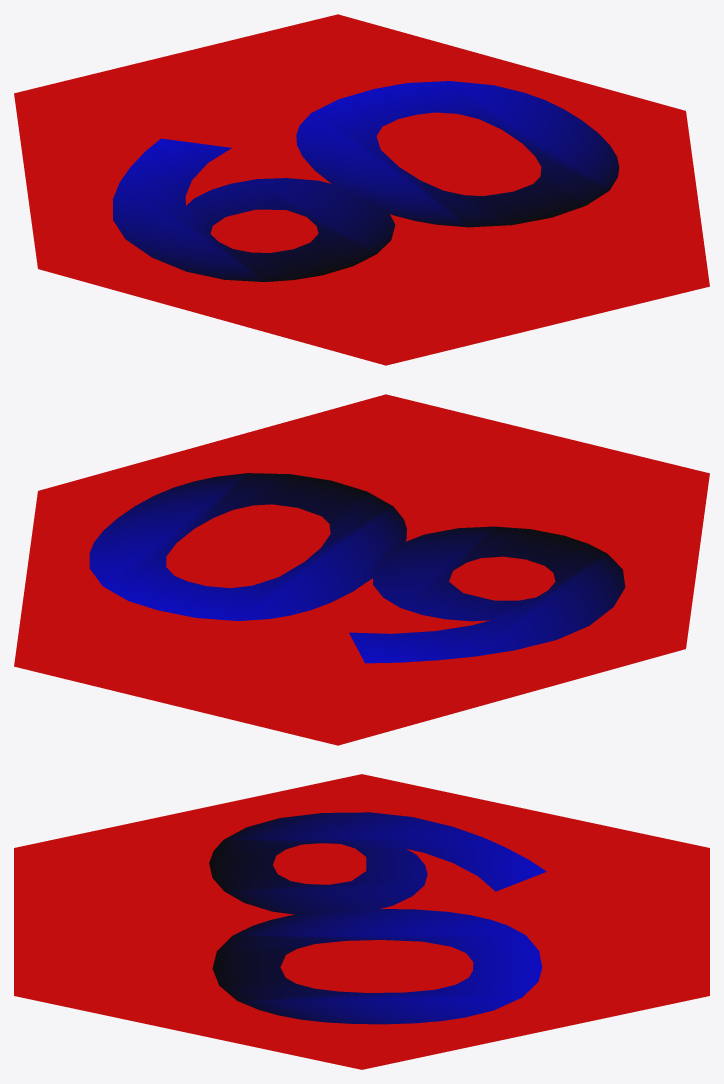
Rendered from SM_Number_60.fbx.
3 views of the same model, one above another, from view 1: azimuth 30°, elevation 25°; view 2: azimuth 150°, elevation 25°; view 3: azimuth 270°, elevation 25° (orthographic). The views are drawn at different scales.
Visible parts, largest first — view 1: FBX_OUT; view 2: FBX_OUT; view 3: FBX_OUT.
Boxes of the visible parts, bbox=[...] form: FBX_OUT: bbox=[14, 14, 709, 365]; FBX_OUT: bbox=[14, 394, 709, 745]; FBX_OUT: bbox=[14, 774, 709, 1069].
Size of the model in its own units: 50 by 0.2917 by 49.71.
